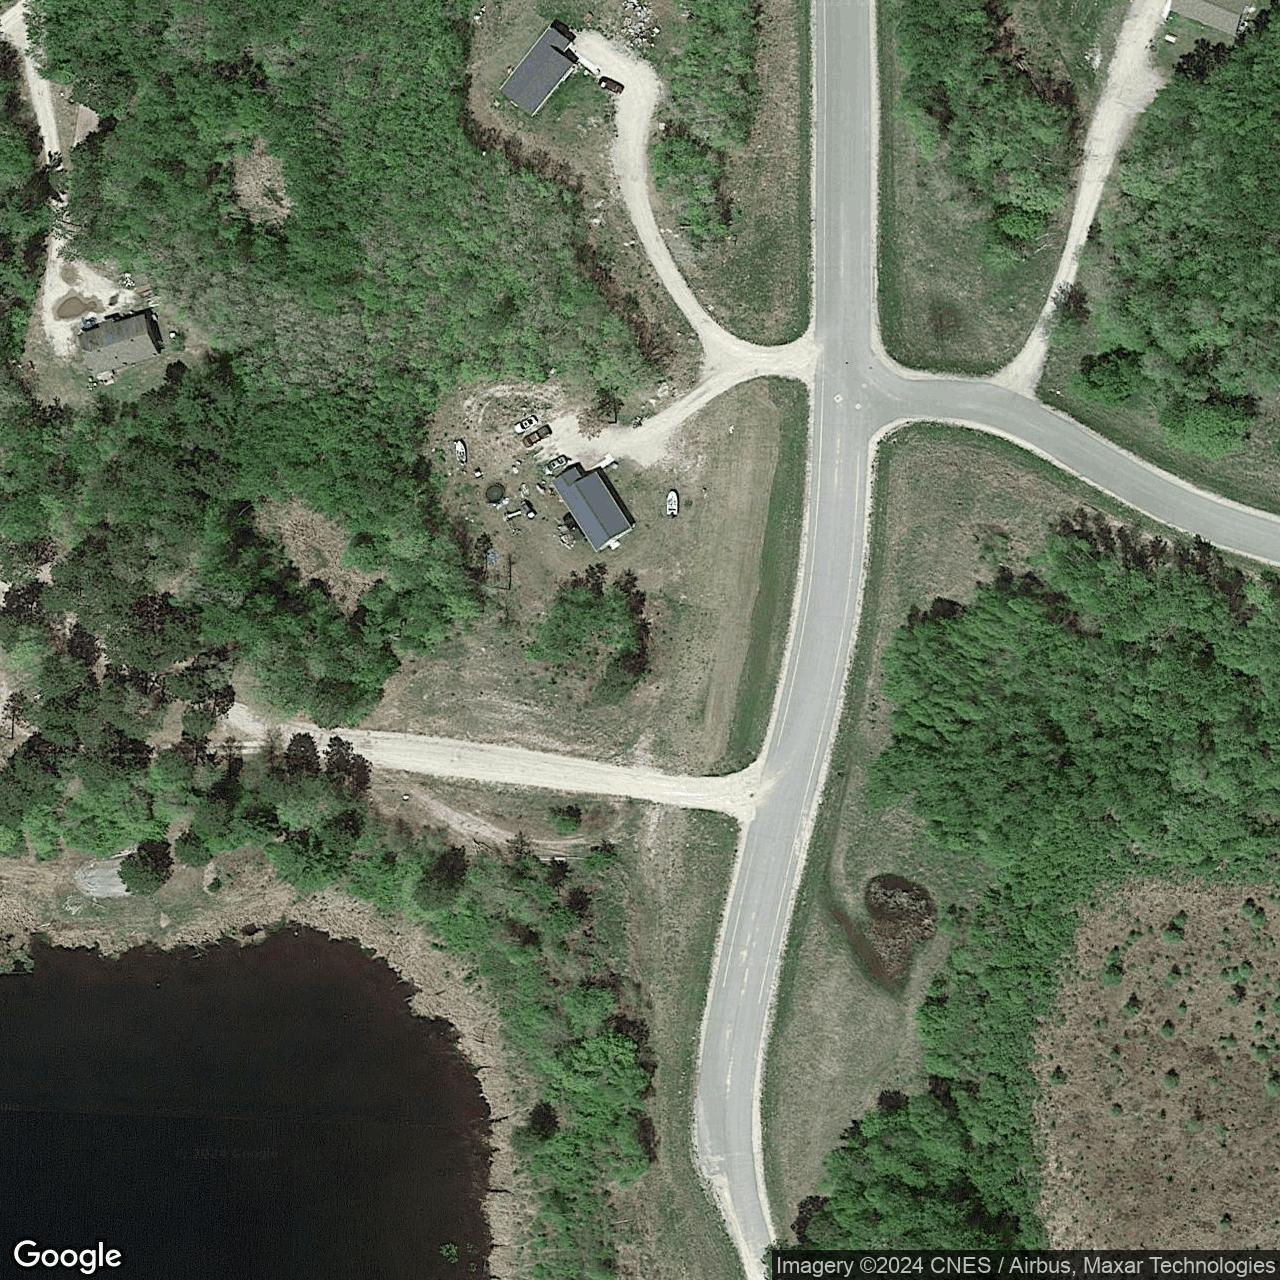House: (497, 22, 577, 118), (551, 465, 633, 553), (76, 311, 162, 376), (1170, 1, 1248, 38)
